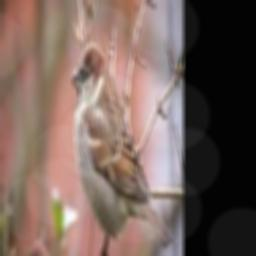Sparrow: (71, 41, 172, 256)
